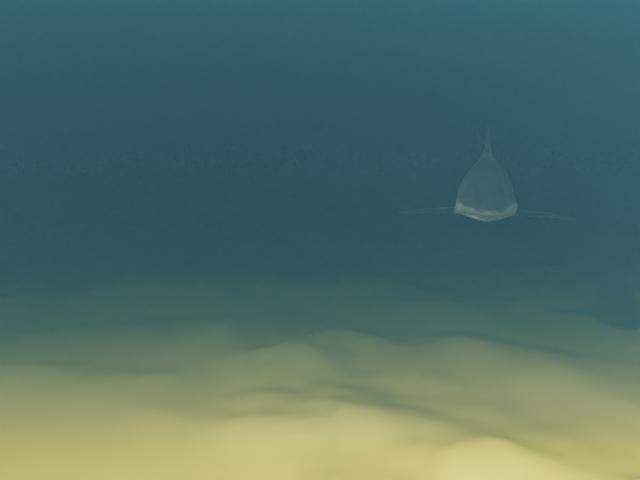Carribean Shark.001: (395, 123, 577, 221)
